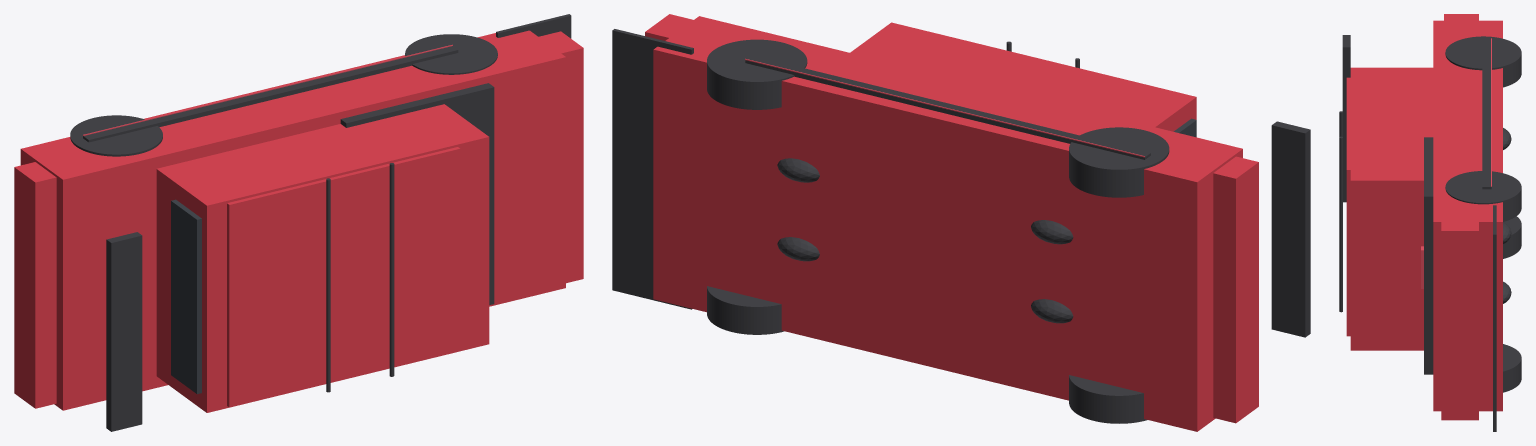
File: sparkgt_v1.glb
The picture shows the model from 3 angles, left to right: view 1: azimuth 30°, elevation 25°; view 2: azimuth 150°, elevation 25°; view 3: azimuth 270°, elevation 25°; orthographic projection. The views are drawn at different scales.
Visible parts, largest first — view 1: body_lower, roof, cabin, bumper_rear, spoiler, rear_glass, bumper_front, hood, skirt_left, tire_front_left, tire_rear_left, roof_rack_rear (+3 smaller); view 2: body_lower, cabin, bumper_rear, splitter, spoiler, tire_front_left, tire_rear_left, skirt_left, tire_rear_right, tire_front_right, bumper_front, stripe_left (+4 smaller); view 3: cabin, body_lower, bumper_front, hood, tire_front_left, tire_rear_left, skirt_left, roof, spoiler, splitter, tire_front_right, roof_rack_rear (+2 smaller).
Boxes of the visible parts, <box> form: body_lower: <box>20,30,565,410</box>; roof: <box>227,147,460,407</box>; cabin: <box>156,104,489,412</box>; bumper_rear: <box>14,162,56,408</box>; spoiler: <box>106,232,142,431</box>; rear_glass: <box>171,199,201,394</box>; bumper_front: <box>516,31,583,283</box>; hood: <box>340,83,494,304</box>; skirt_left: <box>83,46,458,142</box>; tire_front_left: <box>405,34,497,74</box>; tire_rear_left: <box>70,115,162,156</box>; roof_rack_rear: <box>389,163,394,376</box>; body_lower: <box>653,16,1242,431</box>; cabin: <box>850,22,1196,131</box>; bumper_rear: <box>1213,156,1258,423</box>; splitter: <box>612,29,693,309</box>; spoiler: <box>1271,121,1310,337</box>; tire_front_left: <box>707,39,807,109</box>; tire_rear_left: <box>1069,127,1169,197</box>; skirt_left: <box>745,55,1150,159</box>; tire_rear_right: <box>1069,375,1146,423</box>; tire_front_right: <box>707,286,783,334</box>; bumper_front: <box>645,14,717,40</box>; stripe_left: <box>745,58,1144,157</box>; cabin: <box>1350,67,1433,350</box>; body_lower: <box>1433,20,1502,411</box>; bumper_front: <box>1441,214,1478,420</box>; hood: <box>1424,137,1433,374</box>; tire_front_left: <box>1445,171,1521,221</box>; tire_rear_left: <box>1445,36,1521,87</box>; skirt_left: <box>1482,39,1491,189</box>; roof: <box>1346,77,1350,336</box>; spoiler: <box>1342,35,1350,202</box>; splitter: <box>1493,205,1496,431</box>; tire_front_right: <box>1503,344,1521,392</box>; roof_rack_rear: <box>1339,136,1342,312</box>.
Size of the model in its own units: 4014 by 1633 by 1364.
